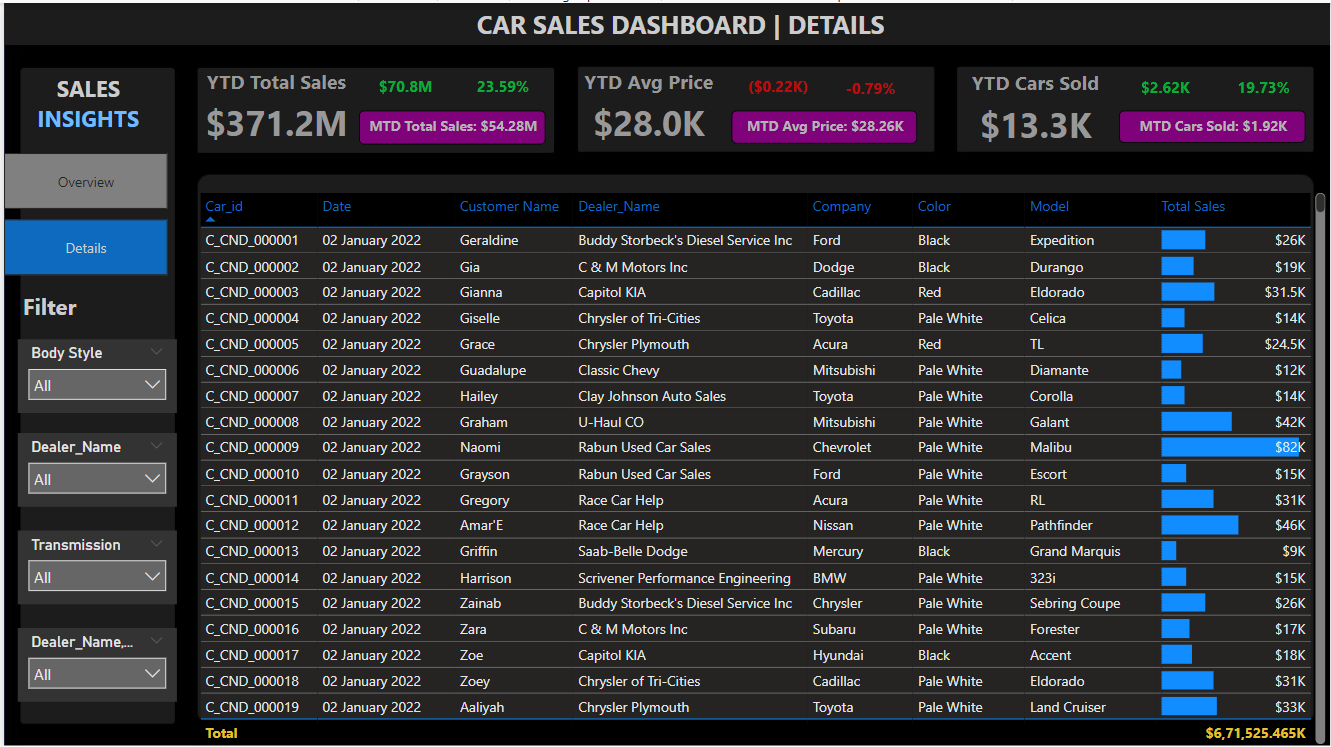

Layout of this report page (visuals, bound fields, positions):
{"tool":"powerbi","page":{"name":"Details","canvas":[1280,720],"ordinal":1},"visuals":[{"type":"card","title":"YTD Total Sales","fields":{"Values":["car_data.YTD Total Sales"]},"box":[183.4,62.7,159.3,82],"z":0},{"type":"card","fields":{"Values":["car_data.Sales Difference"]},"box":[342.6,62.7,90.5,41],"z":1000},{"type":"card","fields":{"Values":["car_data.YOY Sales Growth"]},"box":[433.1,62.7,97.7,41],"z":2000},{"type":"card","fields":{"Values":["car_data.MTD KPE"]},"box":[342.6,103.8,179.8,32.6],"z":3000},{"type":"card","title":"YTD Avg Price","fields":{"Values":["car_data.YTD Avg Price"]},"box":[543,63,159,82],"z":4000},{"type":"card","fields":{"Values":["car_data.Avg Price Diff"]},"box":[702,63,90,41],"z":5000},{"type":"card","fields":{"Values":["car_data.YOY Avg Price Growth"]},"box":[792,63,90,43],"z":6000},{"type":"card","fields":{"Values":["car_data.MTD Avg Price KPI"]},"box":[702,104,179,32],"z":7000},{"type":"card","title":"YTD Cars Sold","fields":{"Values":["car_data.YTD Cars Sold"]},"box":[916.2,63.8,160,82.5],"z":8000},{"type":"card","fields":{"Values":["car_data.Cars Sold Diff"]},"box":[1076.2,62.5,90,41.2],"z":9000},{"type":"card","fields":{"Values":["car_data.YOY Cars Sold Growth"]},"box":[1166.2,62.5,98.8,41.2],"z":10000},{"type":"card","fields":{"Values":["car_data.MTD Cars Sold KPI"]},"box":[1075.7,104.3,180,31.4],"z":11000},{"type":"textbox","box":[451.2,0,472.9,55.5],"z":12000},{"type":"slicer","fields":{"Values":["car_data.Body Style"]},"box":[15,360,152.5,71.2],"z":13000},{"type":"slicer","fields":{"Values":["car_data.Transmission"]},"box":[13.8,536.2,152.5,71.2],"z":14000},{"type":"slicer","fields":{"Values":["car_data.Engine"]},"box":[13.8,622.5,152.5,71.2],"z":15000},{"type":"slicer","fields":{"Values":["car_data.Dealer_Name"]},"box":[13.8,450,152.5,71.2],"z":16000},{"type":"textbox","box":[11.2,320,152.5,40],"z":17000},{"type":"tableEx","fields":{"Values":["car_data.Car_id","car_data.Date","car_data.Customer Name","car_data.Dealer_Name","car_data.Company","car_data.Color","car_data.Model","Sum(car_data.Price ($))"]},"box":[183.4,178.6,1096.7,541.7],"z":18000},{"type":"pageNavigator","box":[10,187.5,157.5,118.8],"z":19000},{"type":"textbox","box":[13.3,62.7,136.3,70],"z":20000},{"type":"textbox","box":[10,145,100,42.5],"z":20001}]}

Visuals, with their boxes in screenshot pixels (x1, y1, x2, y2), scaled from the page's 1280x720 canvas onto the 1331x747 screenshot:
"YTD Total Sales" card: bbox=[191, 65, 356, 150]
card - car_data.Sales Difference: bbox=[356, 65, 450, 108]
card - car_data.YOY Sales Growth: bbox=[450, 65, 552, 108]
card - car_data.MTD KPE: bbox=[356, 108, 543, 142]
"YTD Avg Price" card: bbox=[565, 65, 730, 150]
card - car_data.Avg Price Diff: bbox=[730, 65, 824, 108]
card - car_data.YOY Avg Price Growth: bbox=[824, 65, 917, 110]
card - car_data.MTD Avg Price KPI: bbox=[730, 108, 916, 141]
"YTD Cars Sold" card: bbox=[953, 66, 1119, 152]
card - car_data.Cars Sold Diff: bbox=[1119, 65, 1213, 108]
card - car_data.YOY Cars Sold Growth: bbox=[1213, 65, 1315, 108]
card - car_data.MTD Cars Sold KPI: bbox=[1119, 108, 1306, 141]
textbox: bbox=[469, 0, 961, 58]
slicer - car_data.Body Style: bbox=[16, 374, 174, 447]
slicer - car_data.Transmission: bbox=[14, 556, 173, 630]
slicer - car_data.Engine: bbox=[14, 646, 173, 720]
slicer - car_data.Dealer_Name: bbox=[14, 467, 173, 541]
textbox: bbox=[12, 332, 170, 374]
tableEx - car_data.Car_id x car_data.Date: bbox=[191, 185, 1330, 746]
pageNavigator: bbox=[10, 195, 174, 318]
textbox: bbox=[14, 65, 156, 138]
textbox: bbox=[10, 150, 114, 195]
